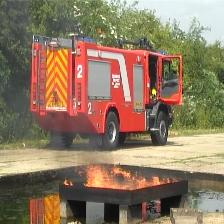fire: (85, 164, 179, 190), (111, 166, 130, 179), (64, 178, 74, 187)
